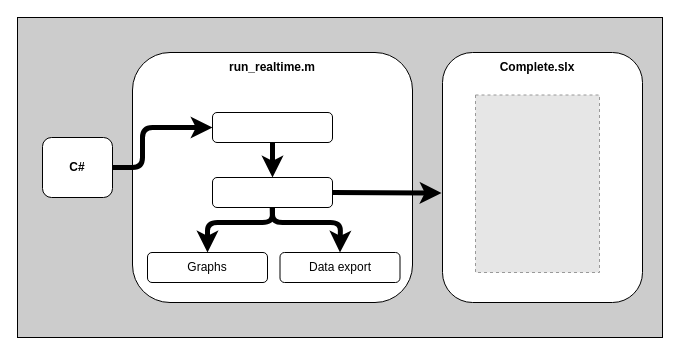
Some shapes in this 680 by 355 pixel diagram are drawn without their labels. Grey dashed boxes stand in for pictures. Here are the shapes that lost their labels. From the top down, the centre of each, then its label:
At point (272, 127): "Connect C#".
At point (272, 192): "Data receive".
